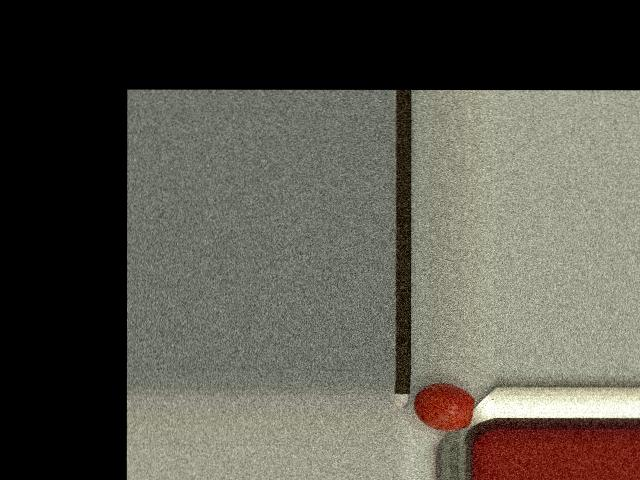tomato: (414, 382, 475, 431)
